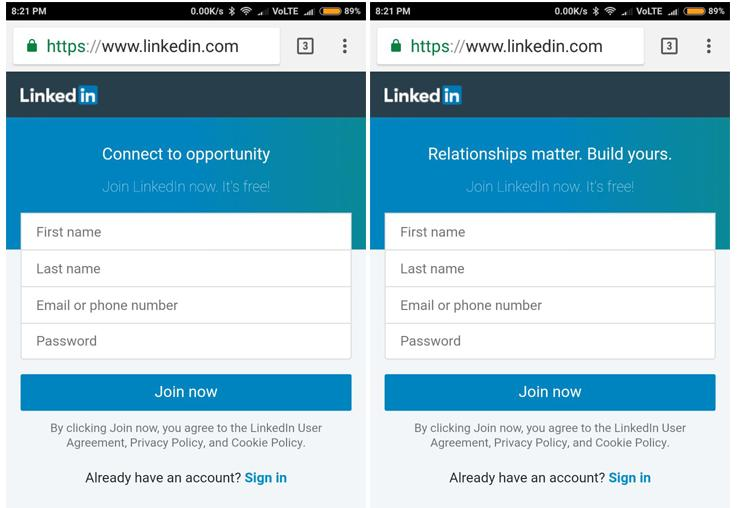button: (18, 368, 357, 417), (242, 467, 295, 490)
textbox: (19, 211, 356, 252)
